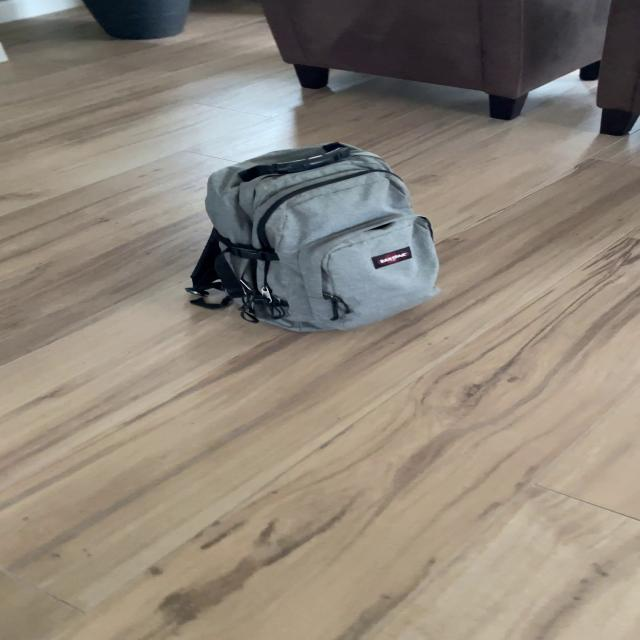backpack: (178, 136, 452, 339)
